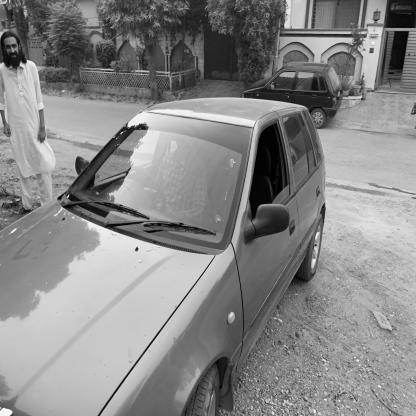no-seatbelt: (157, 132, 193, 201)
